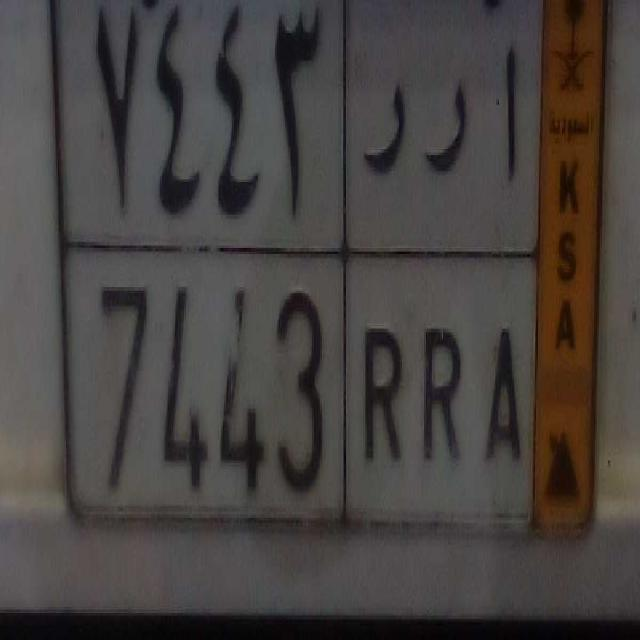license_plate: (60, 230, 536, 535)
